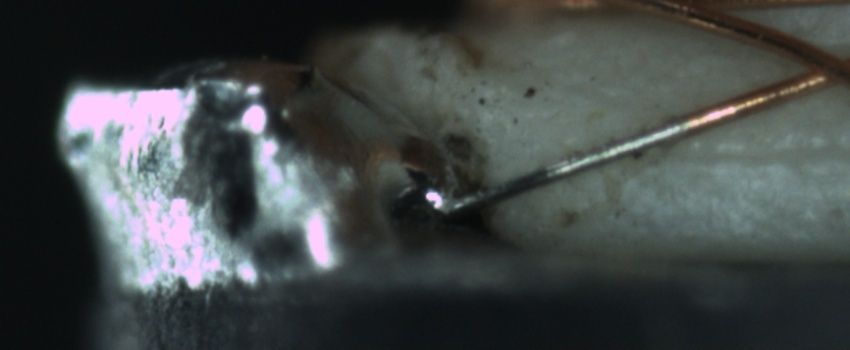CL: (772, 37, 849, 101)
DL: (629, 125, 850, 189)
TS: (443, 120, 688, 215)
